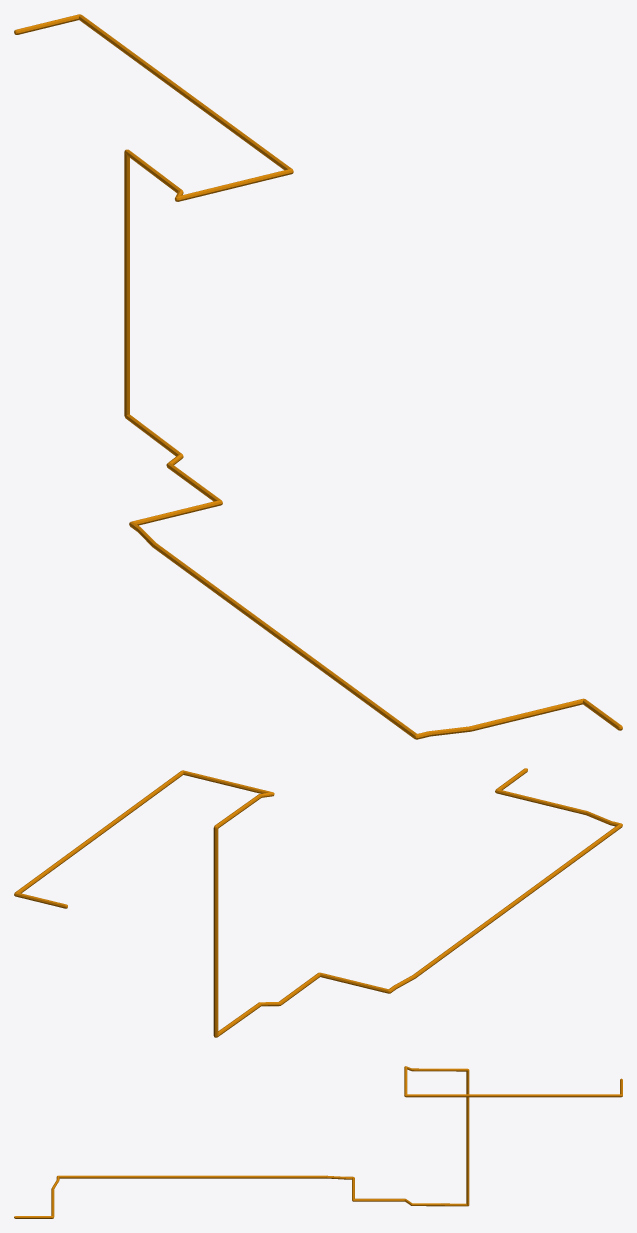
3 views of the same model, one above another, from view 1: azimuth 30°, elevation 25°; view 2: azimuth 150°, elevation 25°; view 3: azimuth 270°, elevation 25° (orthographic). The views are drawn at different scales.
Bounding box in the file's own units: 871 × 1020 × 4094.
